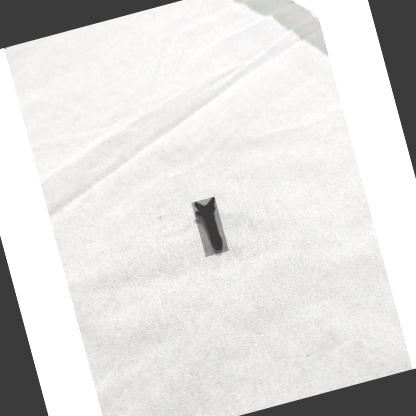buruk: (195, 198, 224, 253)
